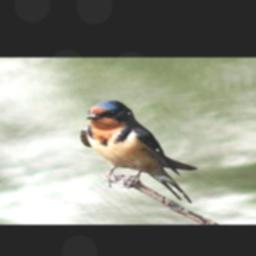Swallow: (77, 99, 193, 204)
